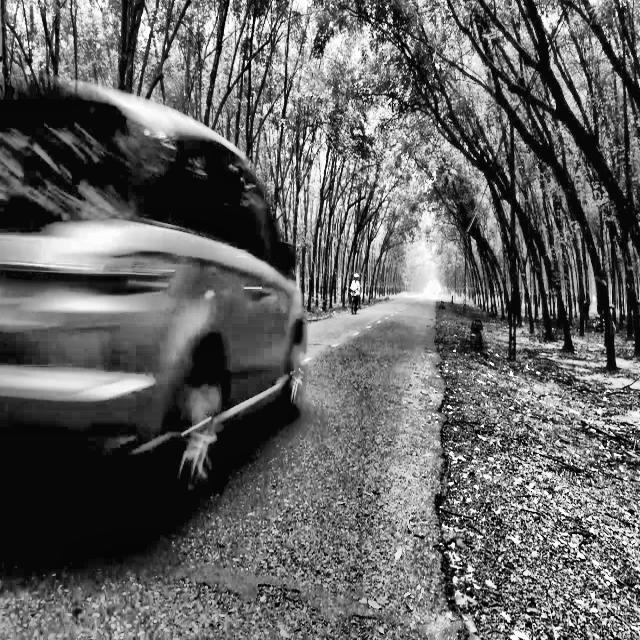automobile: (3, 78, 307, 516)
motorcycle: (349, 273, 362, 315)
